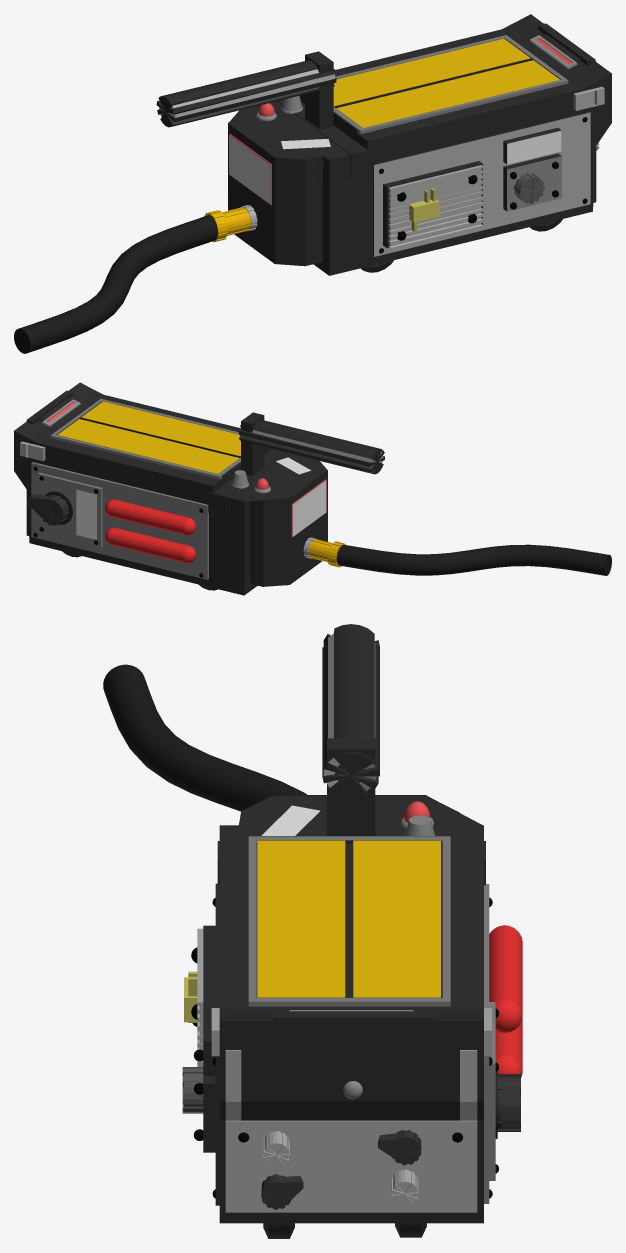
The model's file is ghostbusters2.glb.
3 renders of one model, top to bottom at view 1: azimuth 30°, elevation 25°; view 2: azimuth 150°, elevation 25°; view 3: azimuth 270°, elevation 25°, orthographic. The views are drawn at different scales.
Visible parts, largest first — view 1: pCube1, pCylinder24, pCylinder1, pPlane4, pPlane3, pCube4, pCube16, pPlane5, pCube2, pPlane6, pCylinder2, pCylinder6 (+1 smaller); view 2: pCube1, pCube8, pCylinder24, pCylinder1, pPlane3, pPlane4, pCube9, pCube16, pCylinder9, pCylinder8, pPlane5, pPlane7 (+4 smaller); view 3: pCube1, pPlane4, pPlane3, pCylinder24, pCylinder1, pCube16, pCylinder8, pCylinder12 (×2), pCube8, pCube9, pPlane8, pCylinder2 (+6 smaller).
Part boxes in pixels (<box>): pCube1: <box>228,14,611,275</box>; pCylinder24: <box>14,215,218,353</box>; pCylinder1: <box>156,60,336,127</box>; pPlane4: <box>336,60,559,127</box>; pPlane3: <box>333,38,530,106</box>; pCube4: <box>388,165,483,247</box>; pCube16: <box>333,35,568,134</box>; pPlane5: <box>229,135,270,204</box>; pCube2: <box>277,99,374,179</box>; pPlane6: <box>507,131,561,164</box>; pCylinder2: <box>513,173,544,203</box>; pCylinder6: <box>221,207,253,235</box>; pCube1: <box>14,382,327,595</box>; pCube8: <box>31,462,208,579</box>; pCylinder24: <box>336,544,611,575</box>; pCylinder1: <box>238,420,384,474</box>; pPlane3: <box>57,419,239,473</box>; pPlane4: <box>81,401,240,456</box>; pCube9: <box>38,472,102,547</box>; pCube16: <box>50,398,240,479</box>; pCylinder9: <box>109,527,189,562</box>; pCylinder8: <box>109,499,189,534</box>; pPlane5: <box>292,480,326,536</box>; pPlane7: <box>76,489,96,539</box>; pCube1: <box>184,738,483,1223</box>; pPlane4: <box>257,840,345,997</box>; pPlane3: <box>353,840,440,997</box>; pCylinder24: <box>103,664,307,811</box>; pCylinder1: <box>322,624,379,799</box>; pCube16: <box>248,836,450,1006</box>; pCylinder8: <box>489,926,522,1013</box>; pCylinder12 (×2): <box>261,1130,421,1209</box>; pCube8: <box>484,884,489,1203</box>; pCube9: <box>489,1002,495,1180</box>; pPlane8: <box>261,805,320,835</box>; pCylinder2: <box>182,1067,203,1113</box>.
Bounding box in the file's own units: 26.7 × 8.3 × 9.54.
